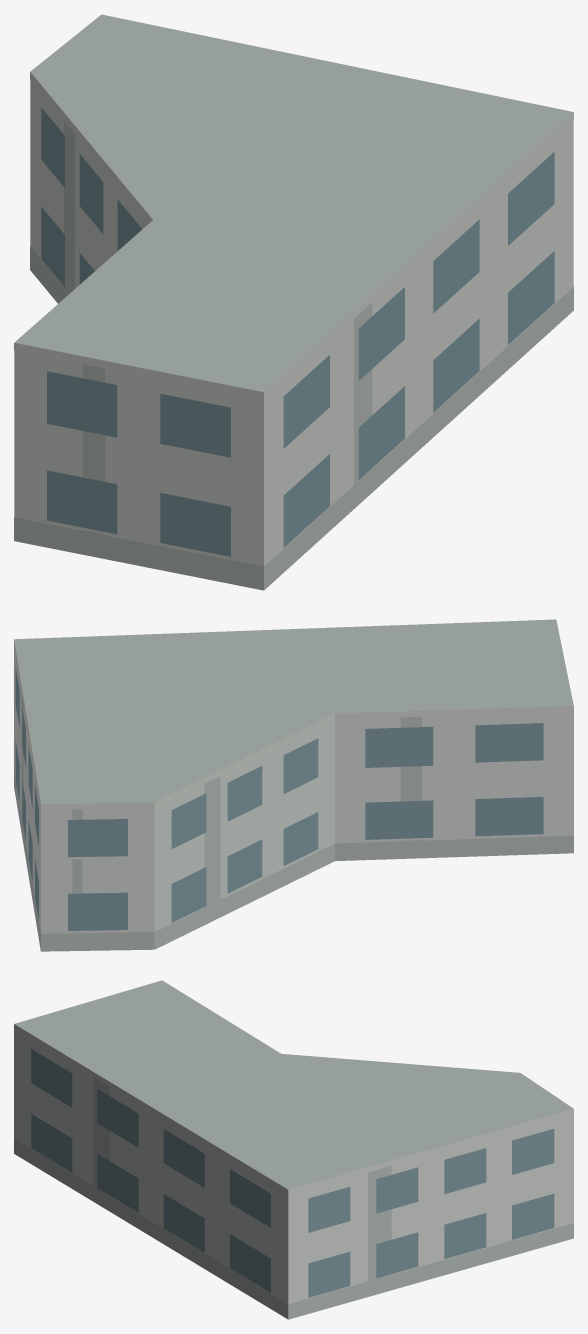
Rendered from survey-upis-32739299.glb.
The picture shows the model from 3 angles, top to bottom: view 1: azimuth 30°, elevation 25°; view 2: azimuth 150°, elevation 25°; view 3: azimuth 270°, elevation 25°; orthographic projection. The views are drawn at different scales.
Visible parts, largest first — view 1: survey-upis-32739299.tmp; view 2: survey-upis-32739299.tmp; view 3: survey-upis-32739299.tmp.
Boxes of the visible parts, left/top/right/bottom form: survey-upis-32739299.tmp: left=14, top=14, right=573, bottom=590; survey-upis-32739299.tmp: left=14, top=619, right=573, bottom=951; survey-upis-32739299.tmp: left=14, top=980, right=573, bottom=1319.
Bounding box in the file's own units: 21.13 × 6.1 × 23.85.
